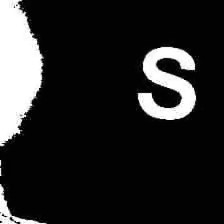LTR_S: (135, 40, 200, 124)
